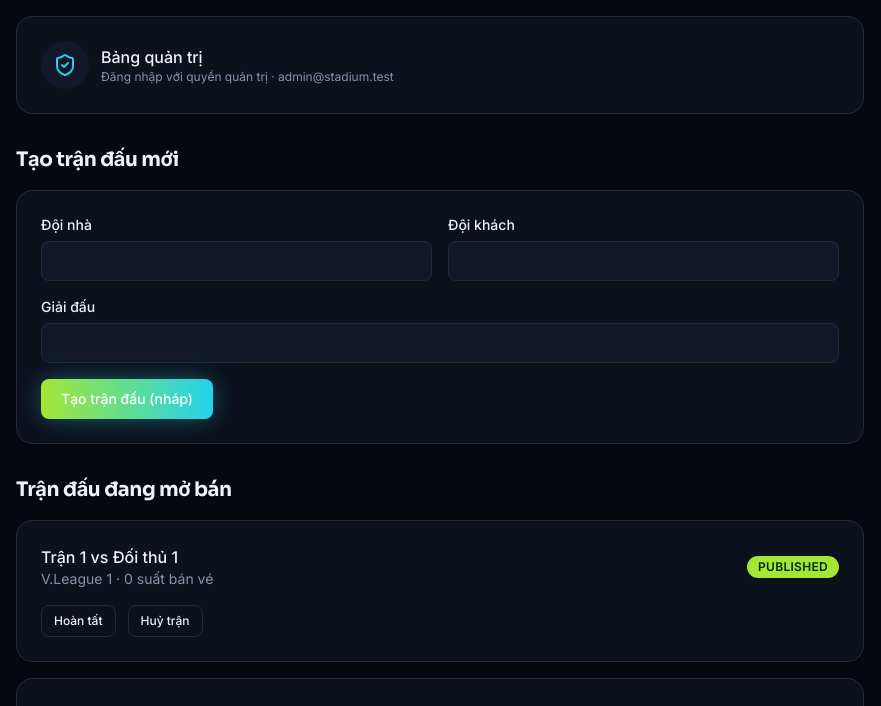
AdminPage match list › stays put when the page still has rows after a completion
Check: the text "Trận 1 vs Đối thủ 1" is shown, box [41,547,178,567]
Click the button "Hoàn tất": (78, 621) [41,605,116,637]
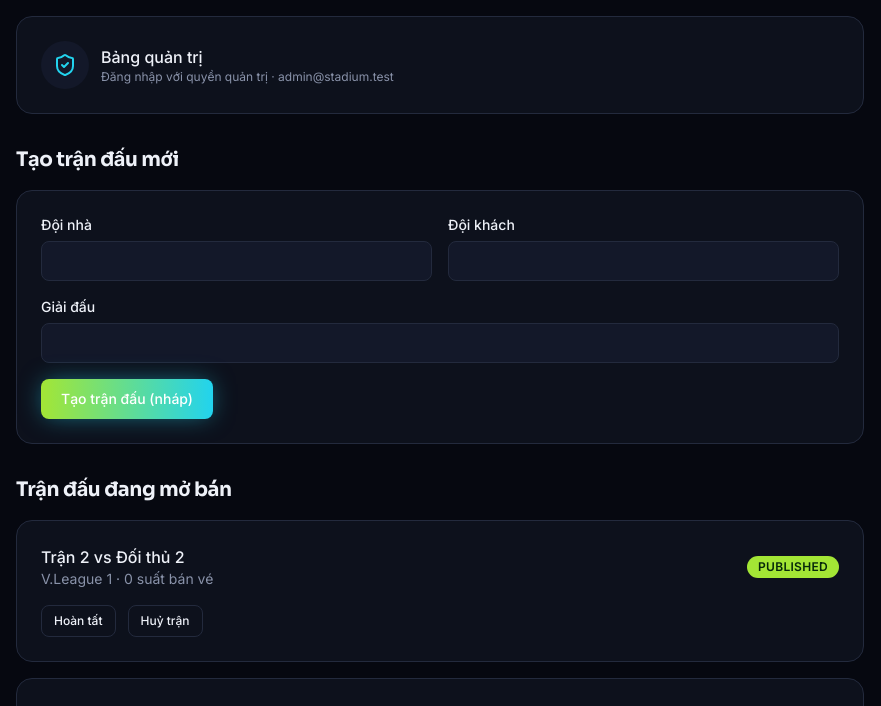
Check: the text "Trận 2 vs Đối thủ 2" is shown, box [41,547,185,567]
Check: the text "Trận 1 vs Đối thủ 1" is gone
